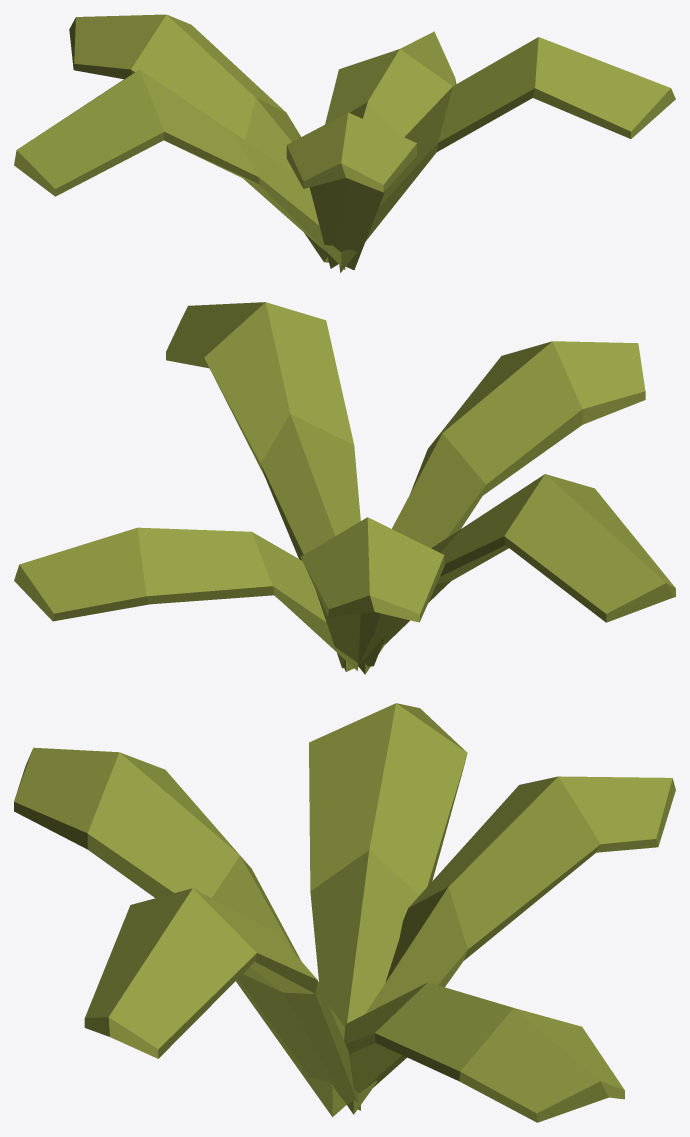
File: Aloe_1.fbx
3 renders of one model, top to bottom at view 1: azimuth 30°, elevation 25°; view 2: azimuth 150°, elevation 25°; view 3: azimuth 270°, elevation 25°, orthographic. The views are drawn at different scales.
Visible parts, largest first — view 1: Aloe_1; view 2: Aloe_1; view 3: Aloe_1.
Boxes of the visible parts, x1,y1,x2,y2 form: Aloe_1: (14,14,675,272); Aloe_1: (14,302,675,674); Aloe_1: (14,703,675,1122).
Size of the model in its own units: 0.0956 by 0.0406 by 0.0784.
